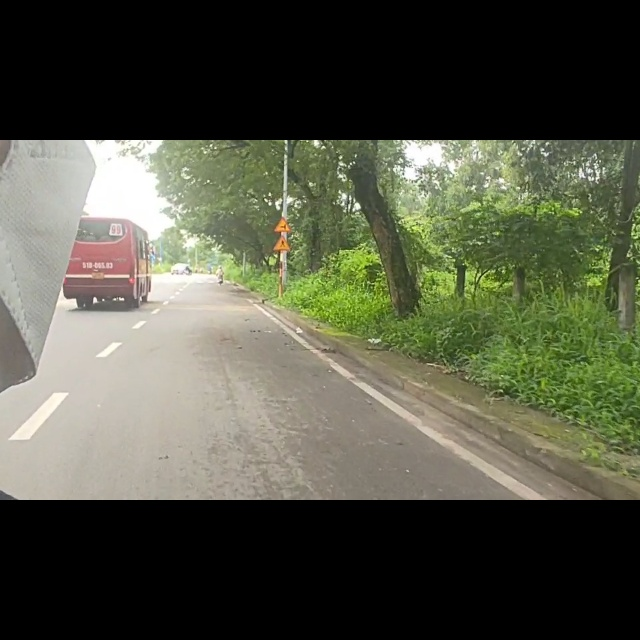bien_hieu_lenh: (273, 136, 293, 168), (275, 168, 292, 199)
